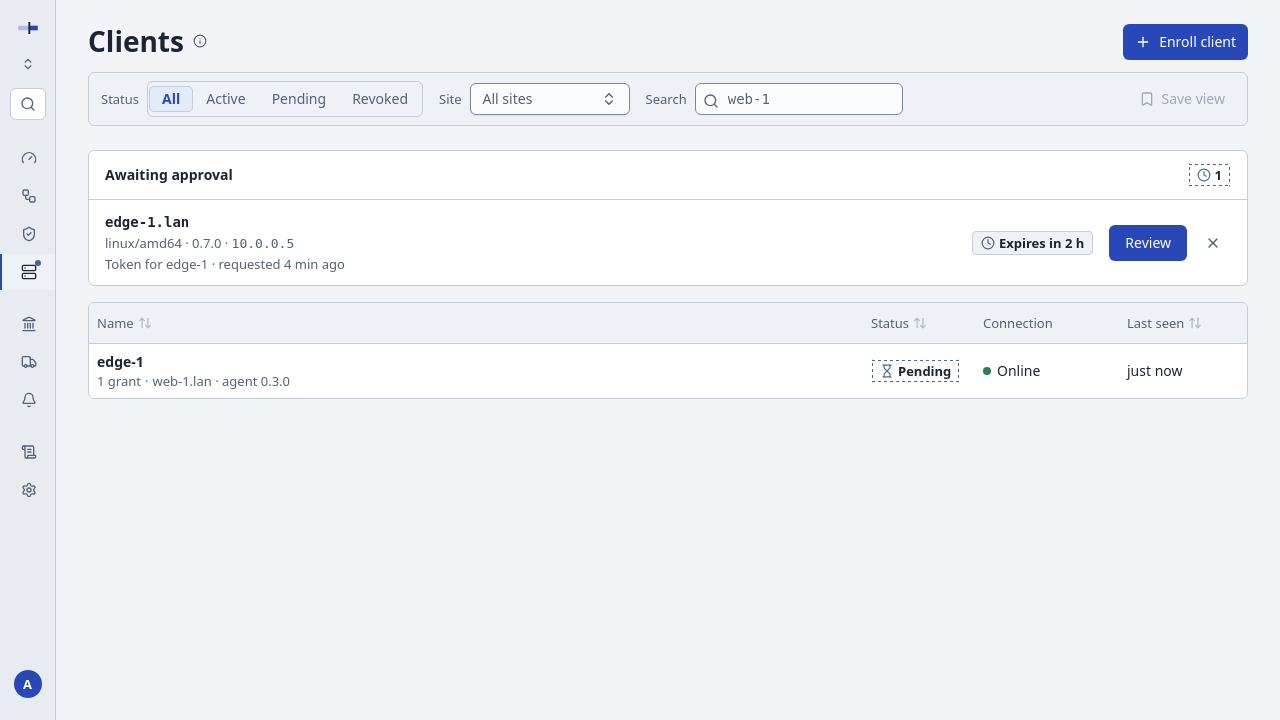
Test: keeps the dialog open and shows the handled message when a refetch drops the request
This screenshot has width=1280, height=720.
Click the button "Review" at (1148, 242), box [1109, 224, 1187, 260]
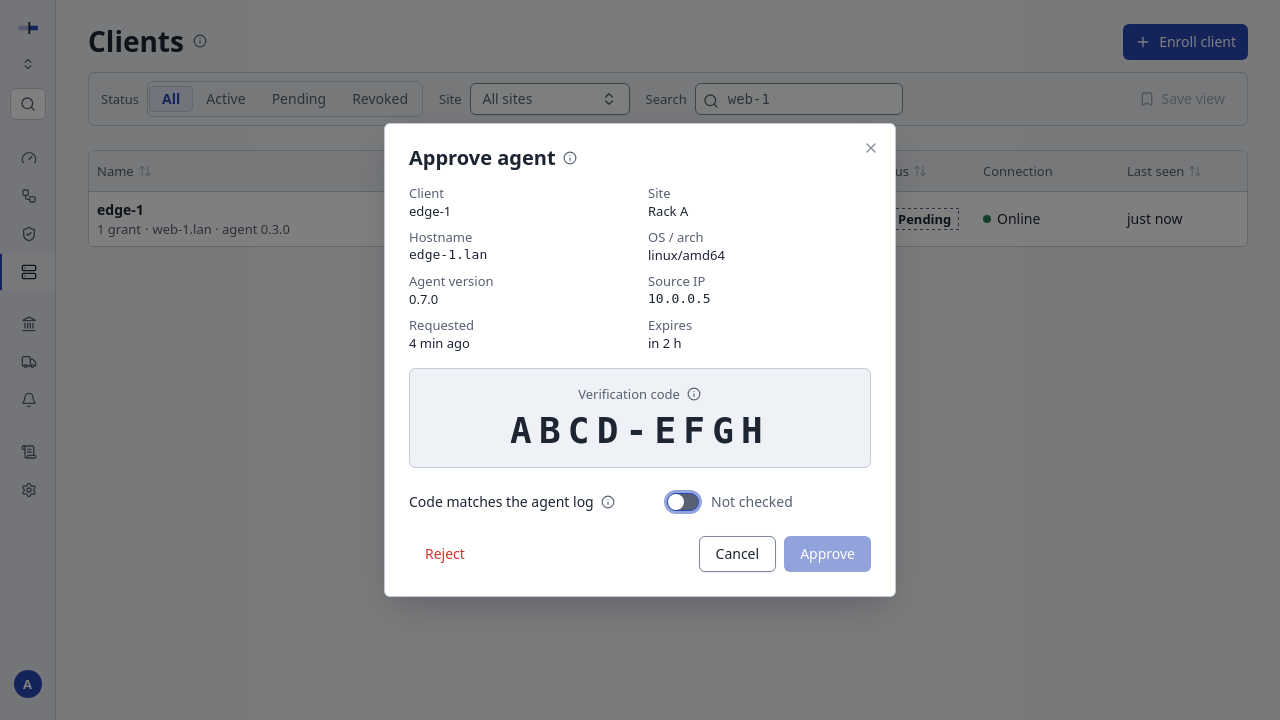
expect the dialog "Approve agent" is shown: met, box [384, 123, 896, 597]
expect the heading "Awaiting approval" is gone: met
Click the switch named "Code matches" at (683, 502), box [667, 493, 699, 511]
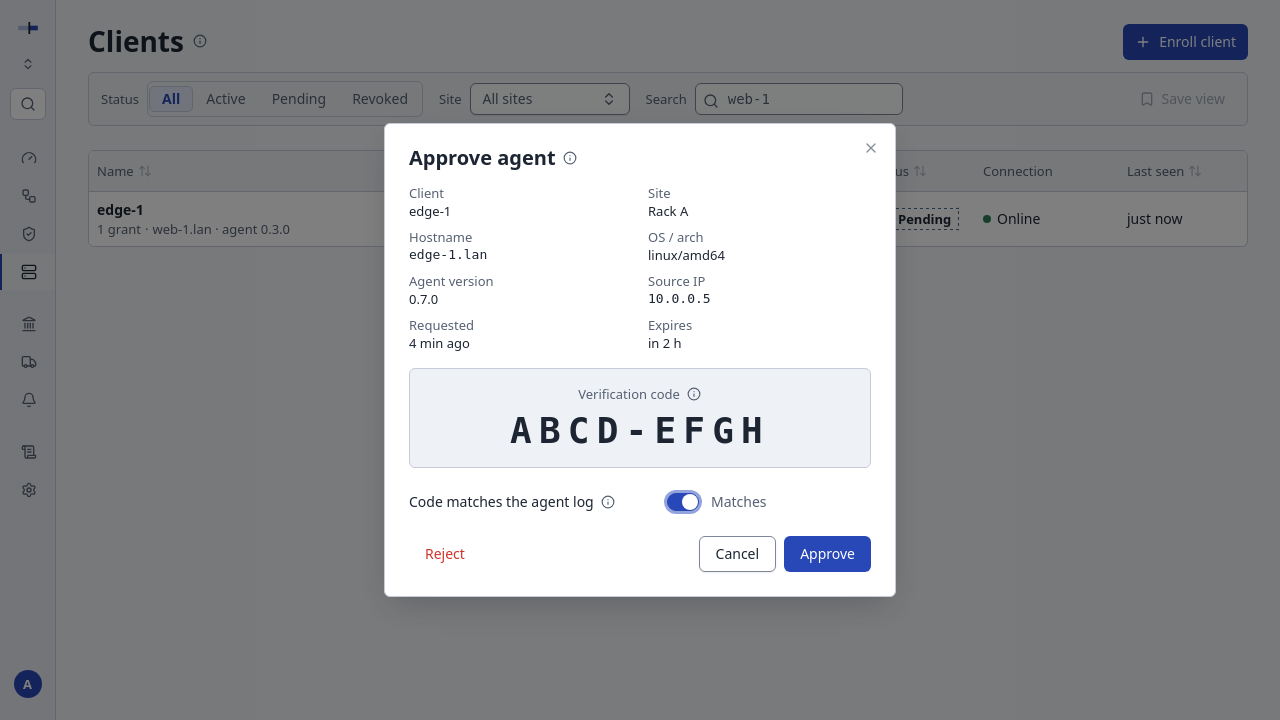
Click the button "Approve" at (828, 554), box [784, 536, 871, 572]
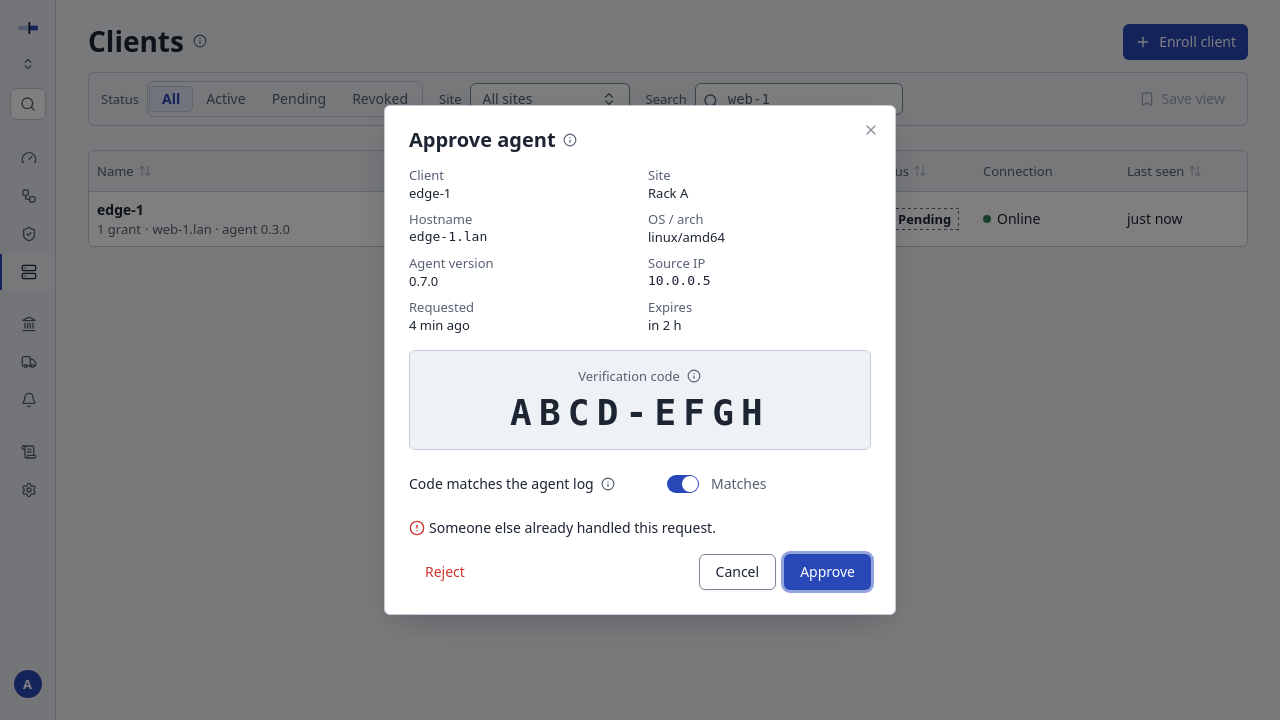
expect the message reads "Someone else already handled this request.": met, box [429, 518, 716, 537]
